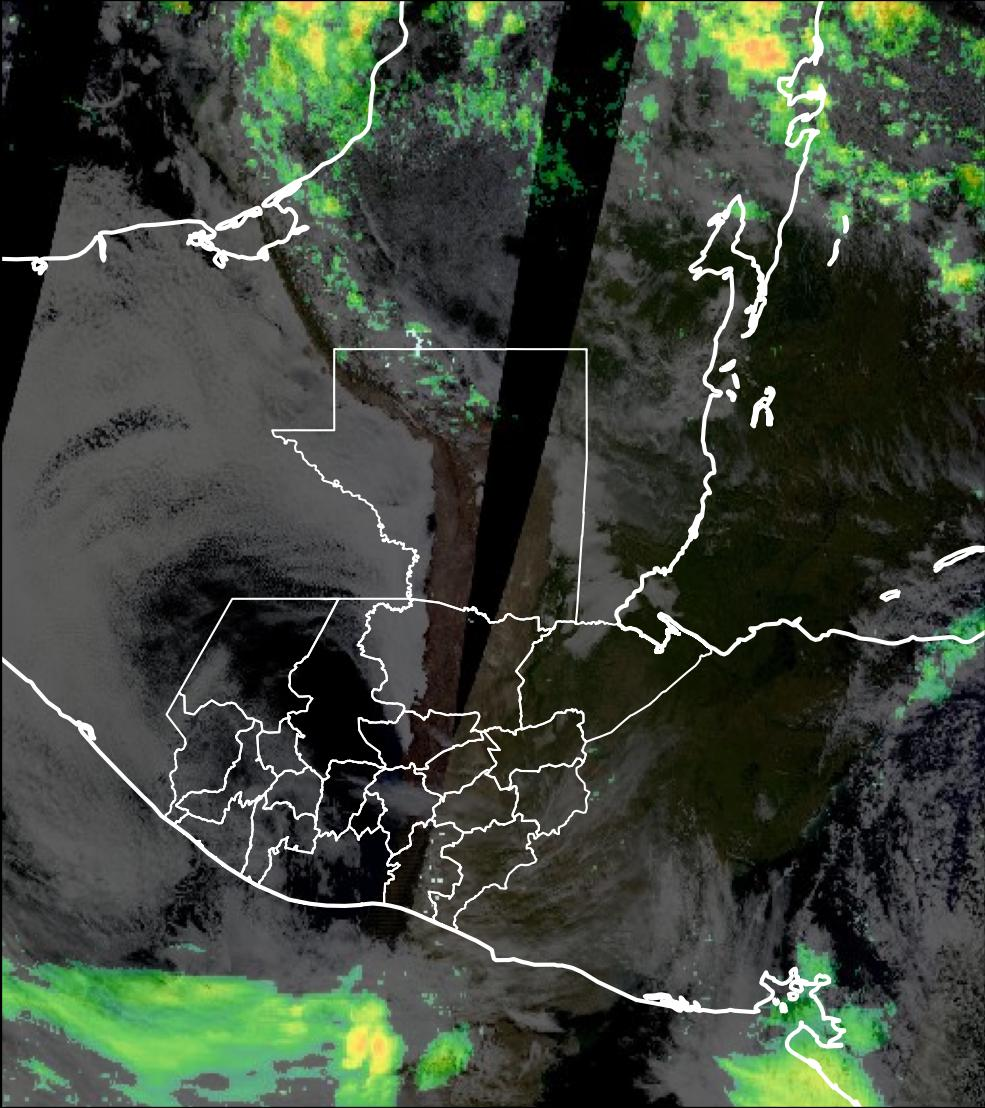precipitacion: (723, 26, 791, 82)
